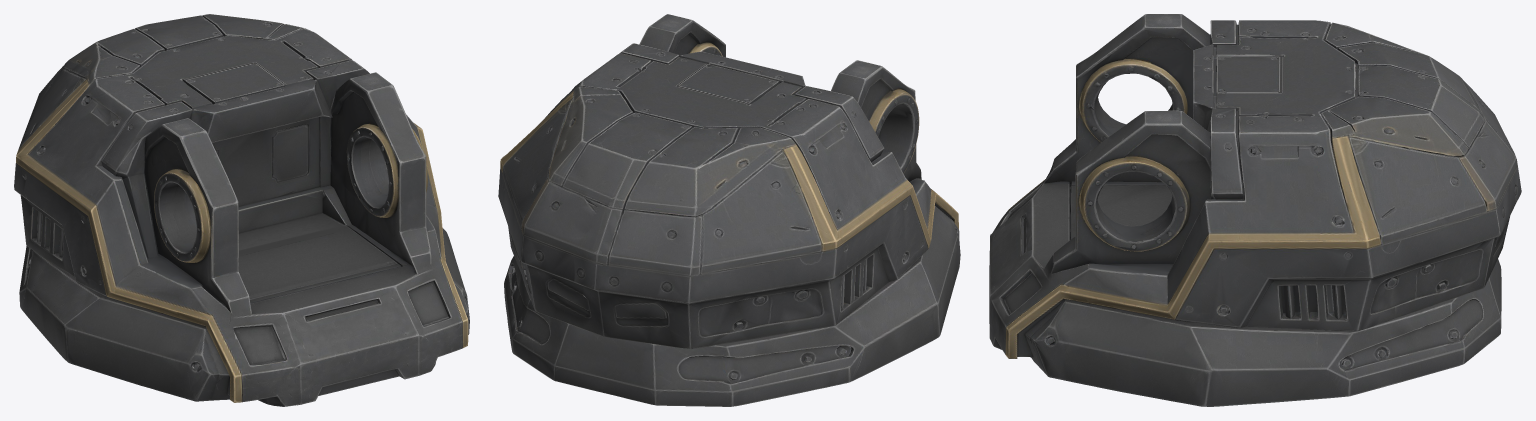
The model's file is imperial_point_defence_turret__turning_house.glb.
3 renders of one model, left to right at view 1: azimuth 30°, elevation 25°; view 2: azimuth 150°, elevation 25°; view 3: azimuth 270°, elevation 25°, orthographic. The views are drawn at different scales.
Parts seen in each view (by area): view 1: mesh_node; view 2: mesh_node; view 3: mesh_node.
Boxes of the visible parts, <box> form: mesh_node: <box>14,14,469,406</box>; mesh_node: <box>498,14,960,406</box>; mesh_node: <box>989,14,1521,406</box>.
Size of the model in its own units: 5.63 by 3.18 by 6.4.
Materials: 1 (1 with a texture image).
